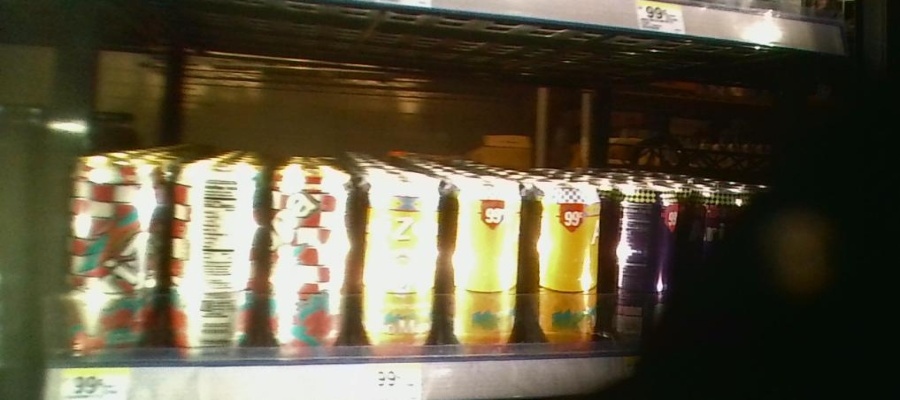bottle: (64, 141, 163, 358), (169, 149, 262, 364), (266, 150, 355, 358), (442, 156, 527, 355), (357, 149, 437, 359), (605, 166, 681, 361), (530, 168, 604, 362)
